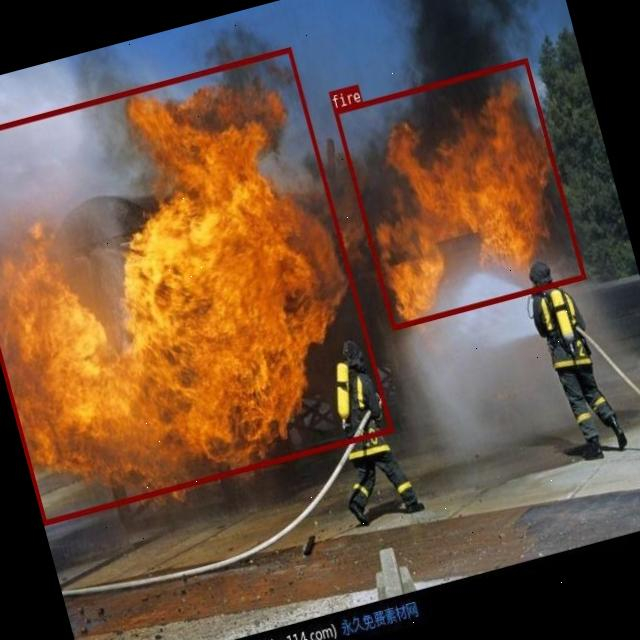fire: (0, 46, 393, 524), (333, 58, 585, 330)
